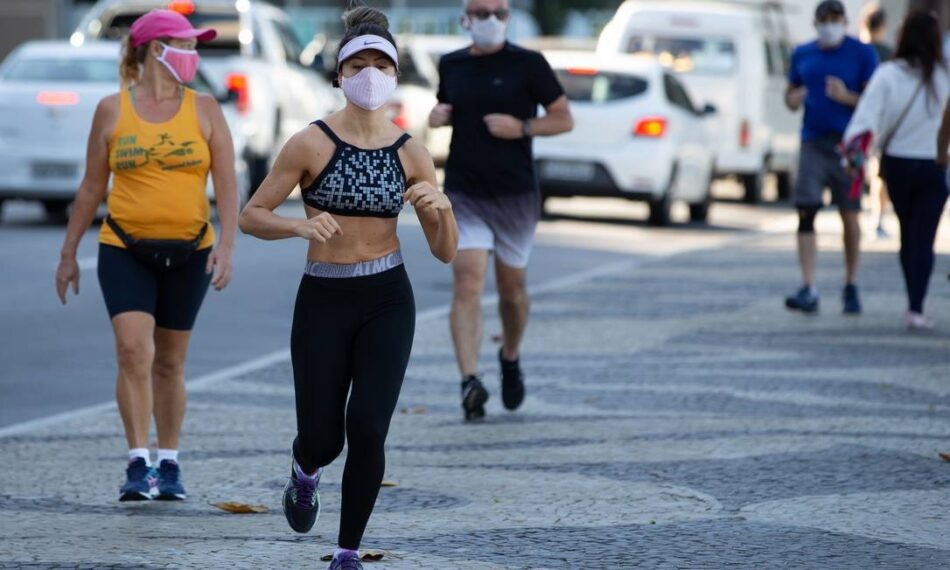with_mask: (334, 52, 403, 115), (144, 34, 200, 88)
